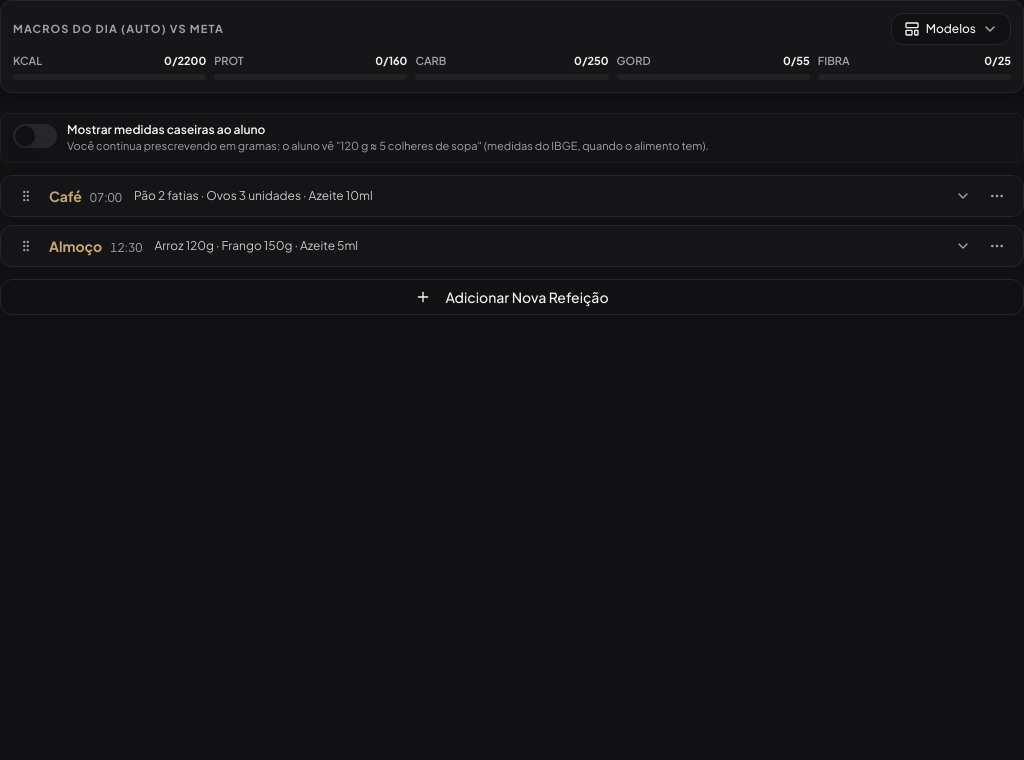
Test: Aba Dieta enxuta › nova refeição já abre para preencher
The image size is (1024, 760).
Click the button "Adicionar Nova Refeição": click(512, 297) [0,279,1023,315]
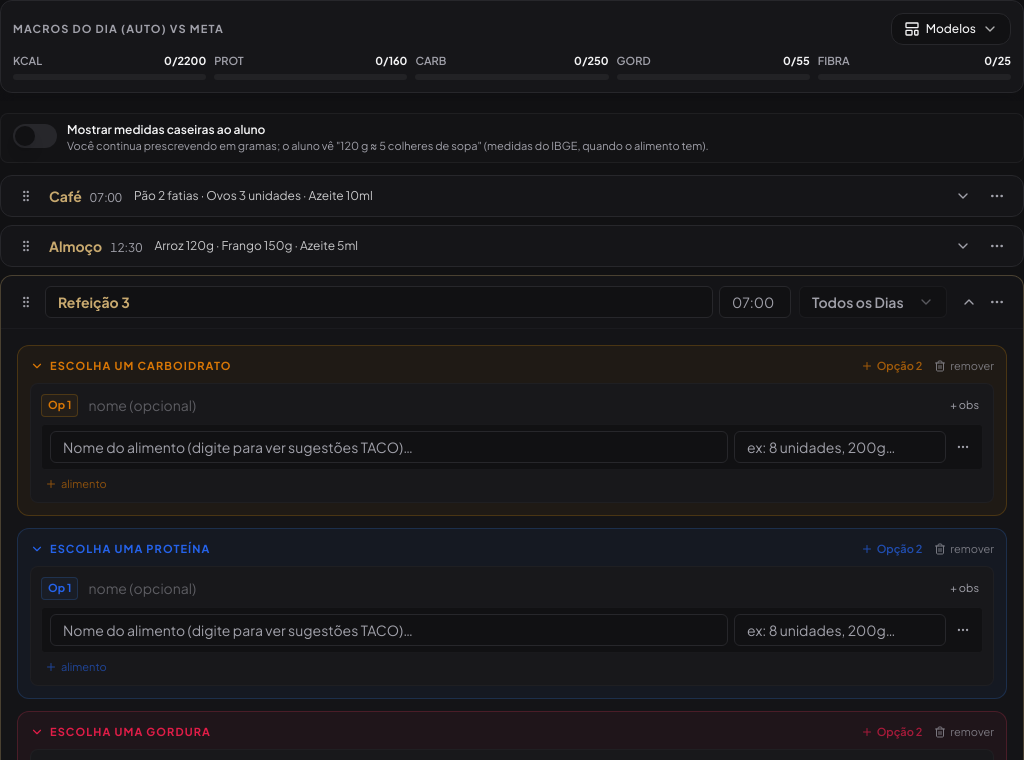
Expected: the field showing "Refeição 3" is shown, [45,286,713,318]
Expected: the number of fields labelled "alimento" is 3
